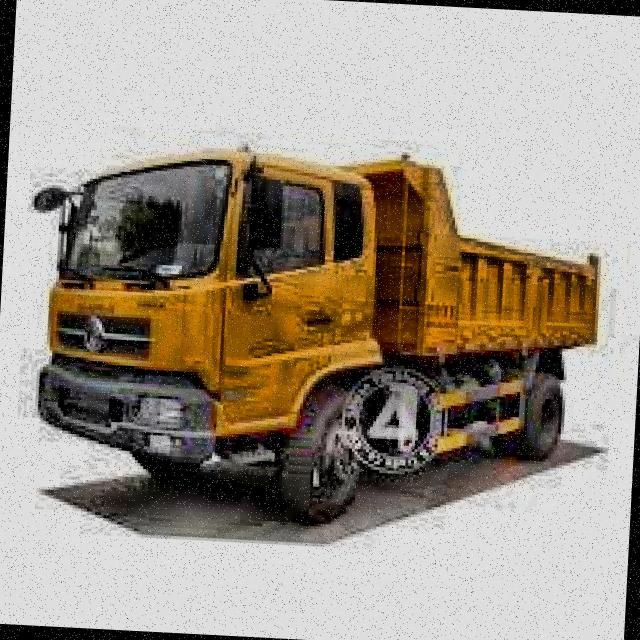dump_truck: (5, 124, 617, 551)
